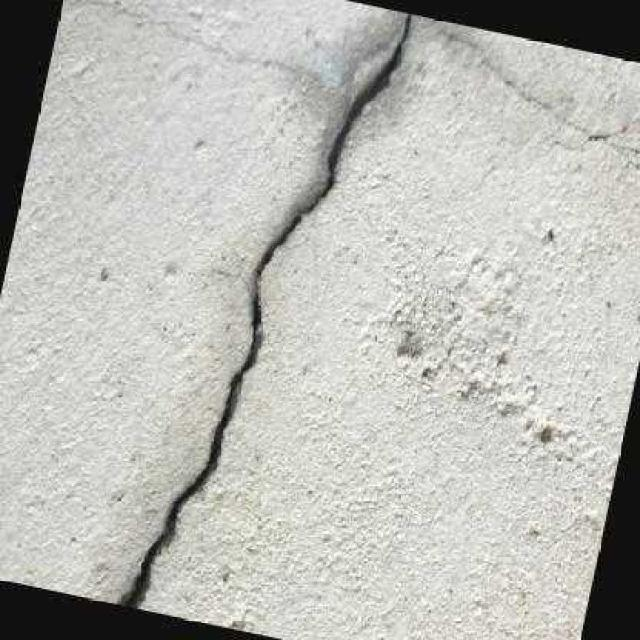D00: (114, 10, 417, 609)
